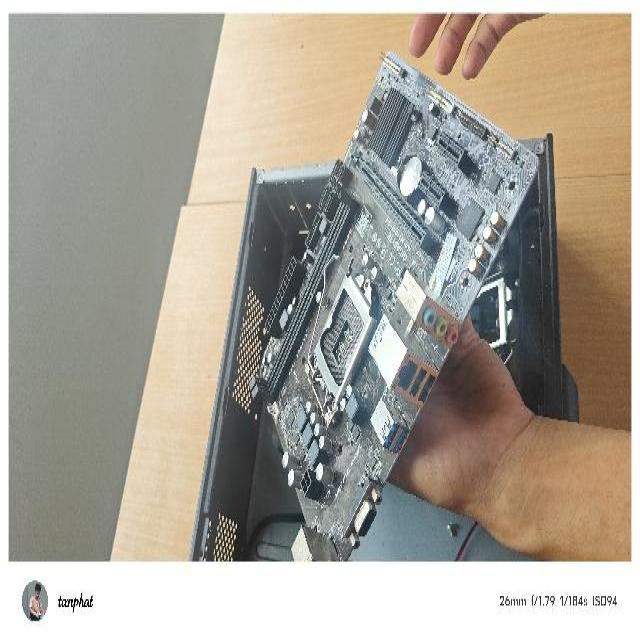Mainboard: (252, 44, 540, 561)
